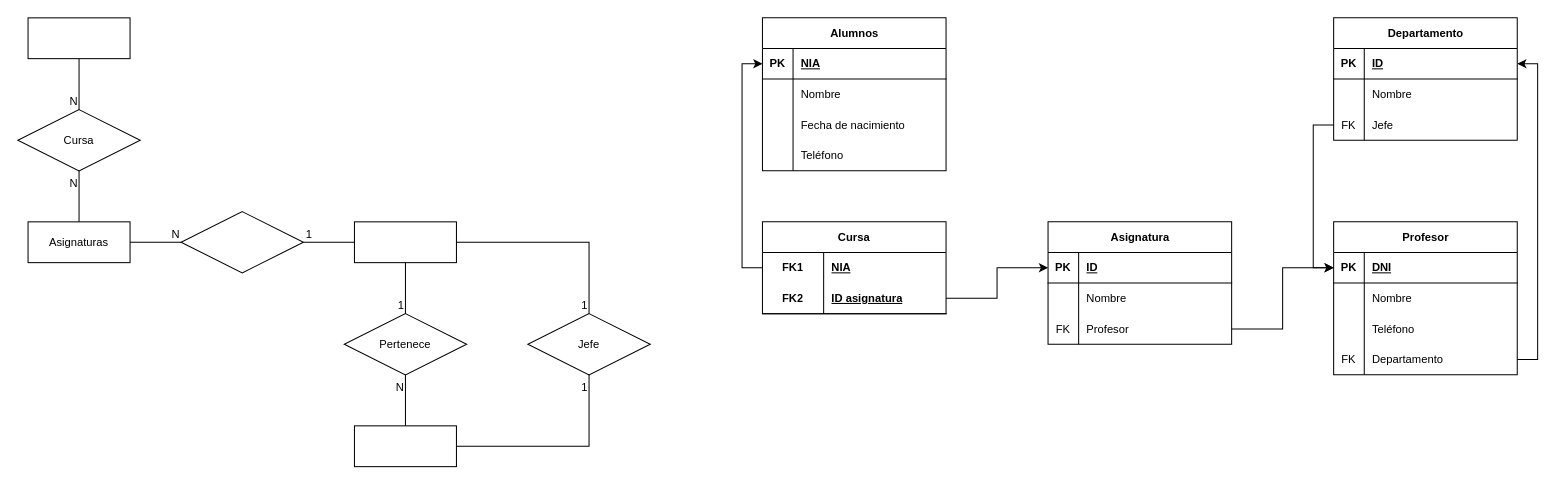
Image size: 1564x485. Some labels were removed from this diagram. The shapes that lost their labels are listed below. From the top down, each one's centre as x and y in pixels, then its label:
[78,38]: Alumno
[241,242]: Impartido
[404,242]: Profesores
[404,446]: Departamentos
